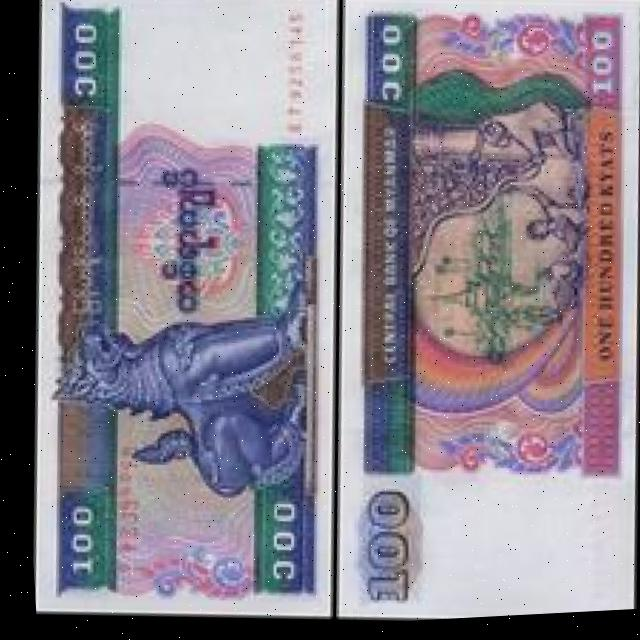banknote: (0, 0, 362, 632), (302, 0, 640, 628)
